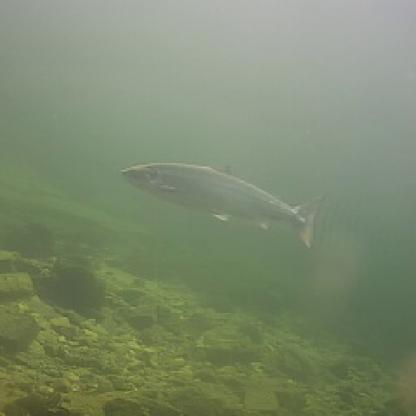salmon: (116, 156, 323, 250)
